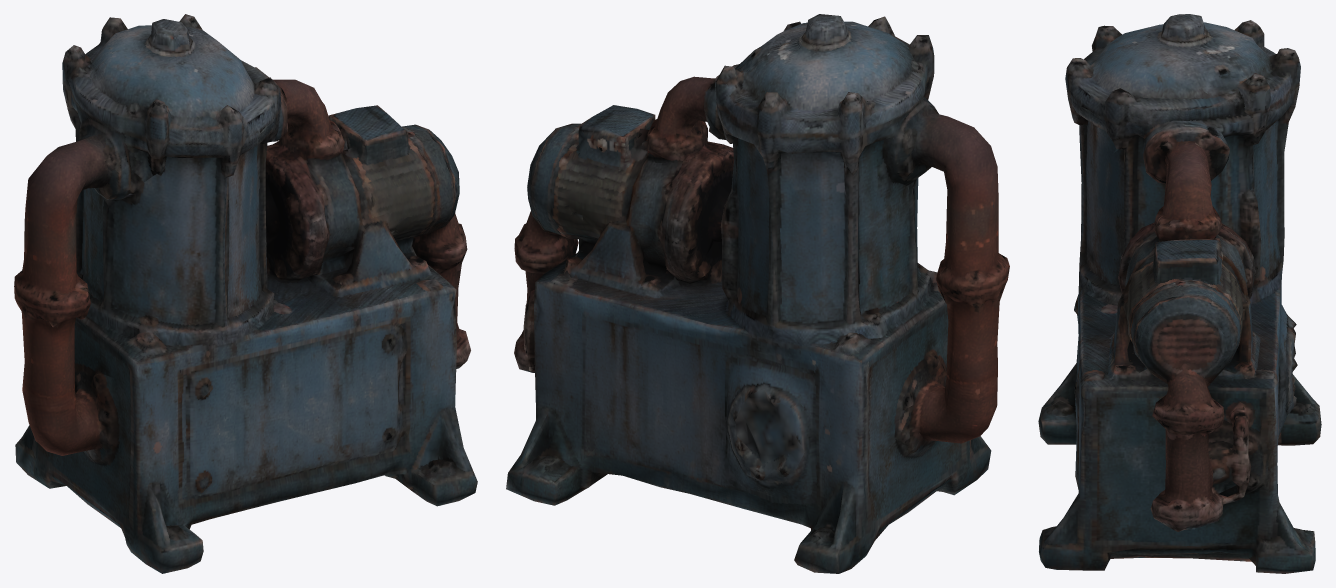
Rendered from bunker_filtration_pump_candidate.glb.
3 renders of one model, left to right at view 1: azimuth 30°, elevation 25°; view 2: azimuth 150°, elevation 25°; view 3: azimuth 270°, elevation 25°, orthographic. The views are drawn at different scales.
Visible parts, largest first — view 1: bunker_filtration_pump_candidate; view 2: bunker_filtration_pump_candidate; view 3: bunker_filtration_pump_candidate.
Boxes of the visible parts, x1,y1,x2,y2 form: bunker_filtration_pump_candidate: [14, 14, 477, 573]; bunker_filtration_pump_candidate: [506, 14, 1009, 573]; bunker_filtration_pump_candidate: [1038, 14, 1321, 573].
Size of the model in its own units: 1.4 by 1.4 by 0.8.
Materials: 1 (1 with a texture image).
